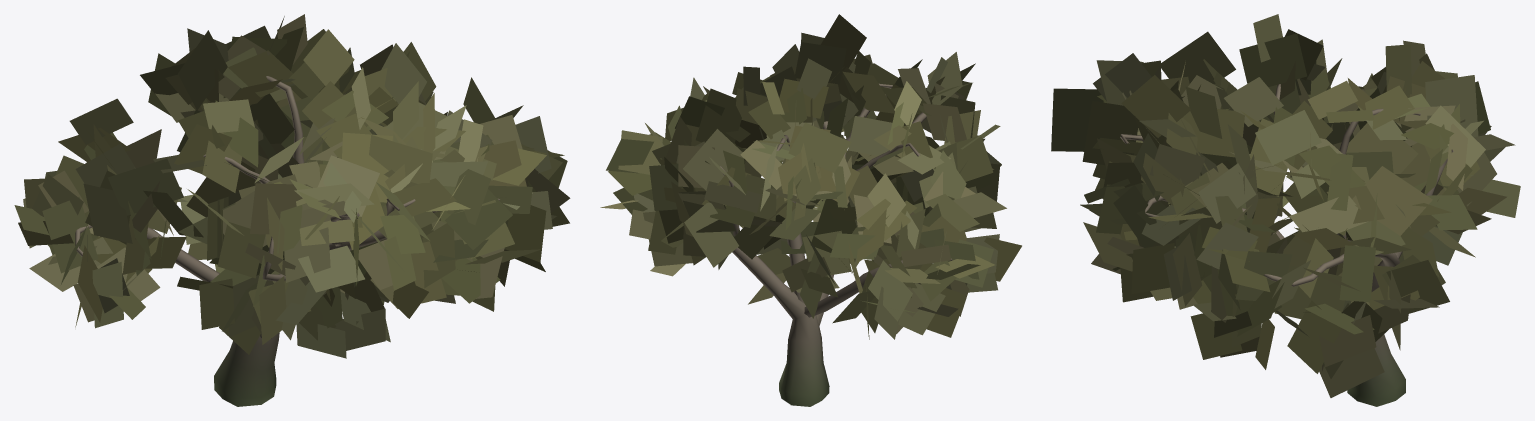
The model's file is broadleaf.olive.dry.glb.
3 renders of one model, left to right at view 1: azimuth 30°, elevation 25°; view 2: azimuth 150°, elevation 25°; view 3: azimuth 270°, elevation 25°, orthographic. The views are drawn at different scales.
Visible parts, largest first — view 1: broadleaf_olive_dry; view 2: broadleaf_olive_dry; view 3: broadleaf_olive_dry.
Part boxes in pixels (box(x1,y1,x2,y2)): broadleaf_olive_dry: box(14, 14, 570, 406); broadleaf_olive_dry: box(600, 14, 1021, 406); broadleaf_olive_dry: box(1051, 14, 1520, 406).
Size of what is drawn, in the model's own units: 7.41 by 5.28 by 6.39.
